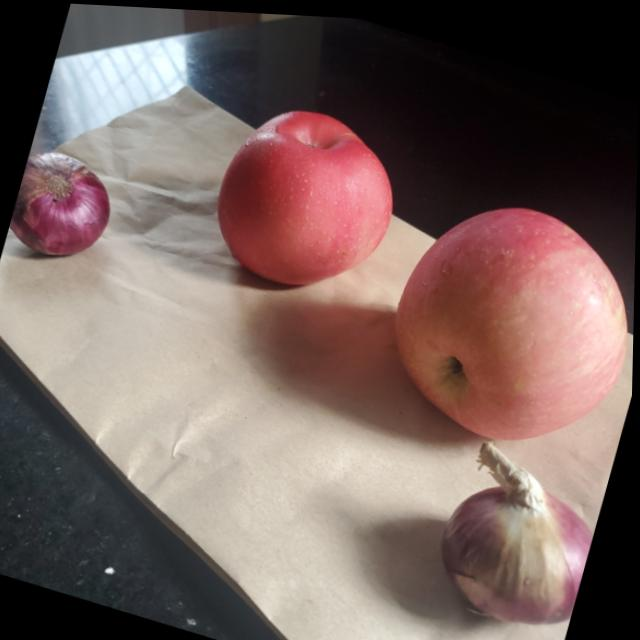apple: (375, 174, 637, 467), (202, 90, 415, 311)
onion: (429, 430, 611, 630), (5, 145, 119, 268)
